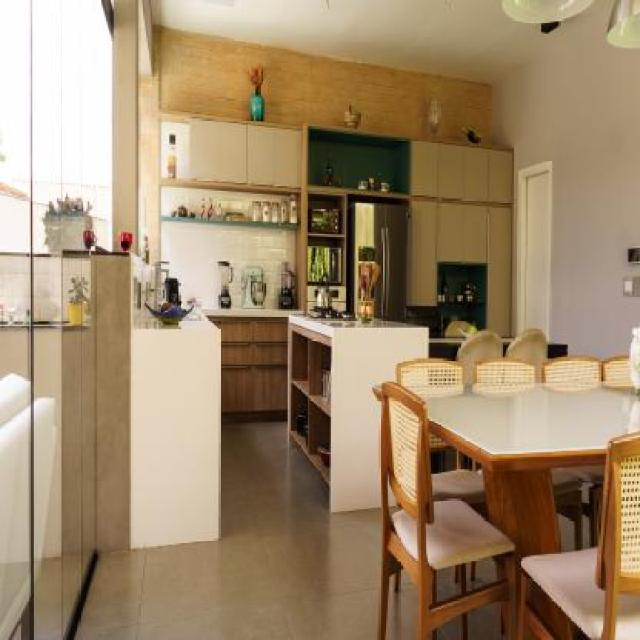floor: (73, 418, 381, 638)
